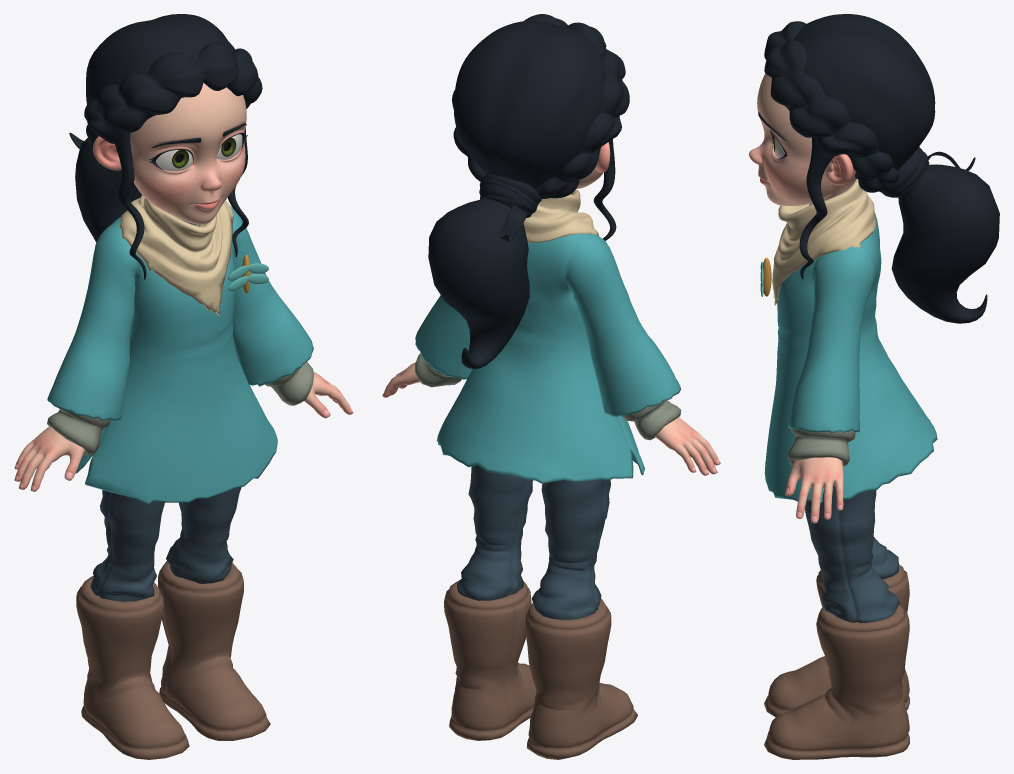
The model's file is actor-live-girl.glb.
3 views of the same model, side by side, from view 1: azimuth 30°, elevation 25°; view 2: azimuth 150°, elevation 25°; view 3: azimuth 270°, elevation 25° (orthographic).
Parts seen in each view (by area): view 1: GEO-spring_jacket.001, GEO_spring_boots.l.001, GEO_spring_boots.r.001, GEO-spring_head.001, GEO_spring_pants.001, GEO_spring_hair_braided.001, GEO_spring_scarf.001, GEO_spring_hair_main.001, GEO_spring_arms.001, GEO_spring_hair_ponytail.001, GEO-spring_pullover.001, GEO_spring_hair_ears.001 (+1 smaller); view 2: GEO-spring_jacket.001, GEO_spring_hair_main.001, GEO_spring_pants.001, GEO_spring_boots.r.001, GEO_spring_hair_ponytail.001, GEO_spring_boots.l.001, GEO_spring_hair_braided.001, GEO_spring_arms.001, GEO_spring_scarf.001, GEO-spring_pullover.001, GEO_spring_hairband_main.001, GEO_spring_hair_ears.001 (+1 smaller); view 3: GEO-spring_jacket.001, GEO_spring_boots.l.001, GEO_spring_hair_main.001, GEO_spring_hair_ponytail.001, GEO_spring_pants.001, GEO_spring_hair_braided.001, GEO-spring_head.001, GEO_spring_scarf.001, GEO_spring_boots.r.001, GEO_spring_arms.001, GEO-spring_pullover.001, GEO_spring_hair_ears.001 (+1 smaller).
Part boxes in pixels (box(x1,y1,x2,y2)): GEO-spring_jacket.001: box(47, 206, 313, 504); GEO_spring_boots.l.001: box(157, 561, 270, 740); GEO_spring_boots.r.001: box(76, 576, 189, 759); GEO-spring_head.001: box(93, 83, 246, 224); GEO_spring_pants.001: box(90, 487, 241, 601); GEO_spring_hair_braided.001: box(84, 42, 262, 170); GEO_spring_scarf.001: box(119, 195, 233, 315); GEO_spring_hair_main.001: box(86, 14, 234, 104); GEO_spring_arms.001: box(14, 372, 353, 491); GEO_spring_hair_ponytail.001: box(75, 143, 141, 242); GEO-spring_pullover.001: box(47, 216, 313, 455); GEO_spring_hair_ears.001: box(115, 126, 248, 279); GEO-spring_jacket.001: box(415, 233, 680, 483); GEO_spring_hair_main.001: box(453, 20, 605, 189); GEO_spring_pants.001: box(457, 465, 610, 619); GEO_spring_boots.r.001: box(525, 598, 637, 759); GEO_spring_hair_ponytail.001: box(428, 198, 529, 368); GEO_spring_boots.l.001: box(444, 580, 536, 740); GEO_spring_hair_braided.001: box(452, 14, 629, 198); GEO_spring_arms.001: box(382, 362, 720, 475); GEO_spring_scarf.001: box(523, 189, 598, 242); GEO-spring_pullover.001: box(415, 353, 681, 440); GEO_spring_hairband_main.001: box(479, 174, 541, 217); GEO_spring_hair_ears.001: box(593, 139, 616, 240); GEO-spring_jacket.001: box(764, 212, 937, 503); GEO_spring_boots.l.001: box(764, 604, 909, 759); GEO_spring_hair_main.001: box(793, 14, 935, 178); GEO_spring_hair_ponytail.001: box(891, 164, 999, 323); GEO_spring_pants.001: box(805, 486, 899, 622); GEO_spring_hair_braided.001: box(764, 21, 898, 192); GEO-spring_head.001: box(749, 73, 856, 205); GEO_spring_scarf.001: box(772, 179, 876, 305); GEO_spring_boots.r.001: box(764, 564, 909, 717); GEO_spring_arms.001: box(785, 457, 843, 523); GEO-spring_pullover.001: box(787, 203, 855, 466); GEO_spring_hair_ears.001: box(799, 137, 833, 279).
Size of the model in its own units: 0.6981 by 1.41 by 0.4556.
18 materials, 3 textured.
